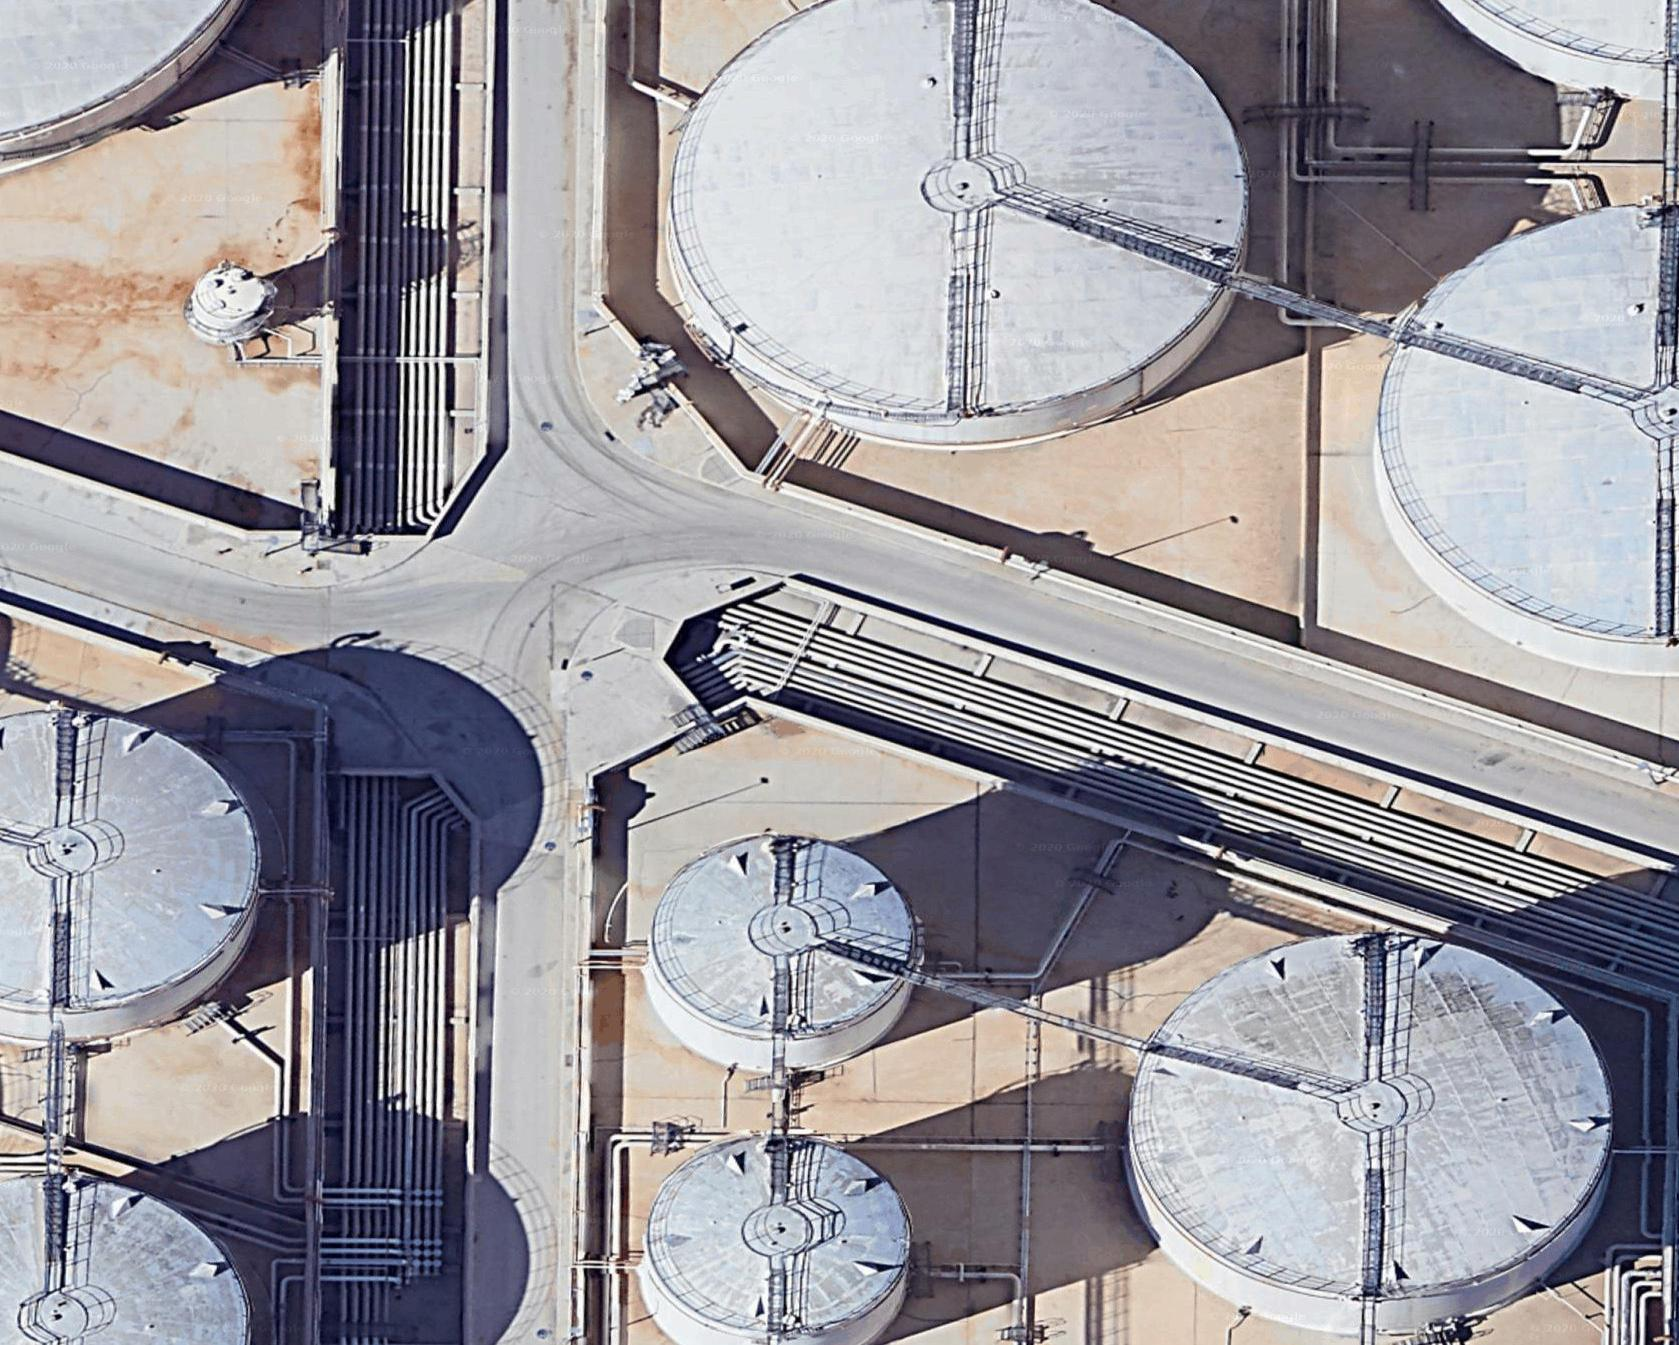storage-tank: (630, 1, 1286, 456), (1111, 918, 1621, 1320), (1355, 183, 1679, 699), (1, 711, 269, 1060), (616, 1121, 925, 1344), (642, 823, 910, 1054), (1, 1147, 269, 1345), (187, 264, 276, 349)
